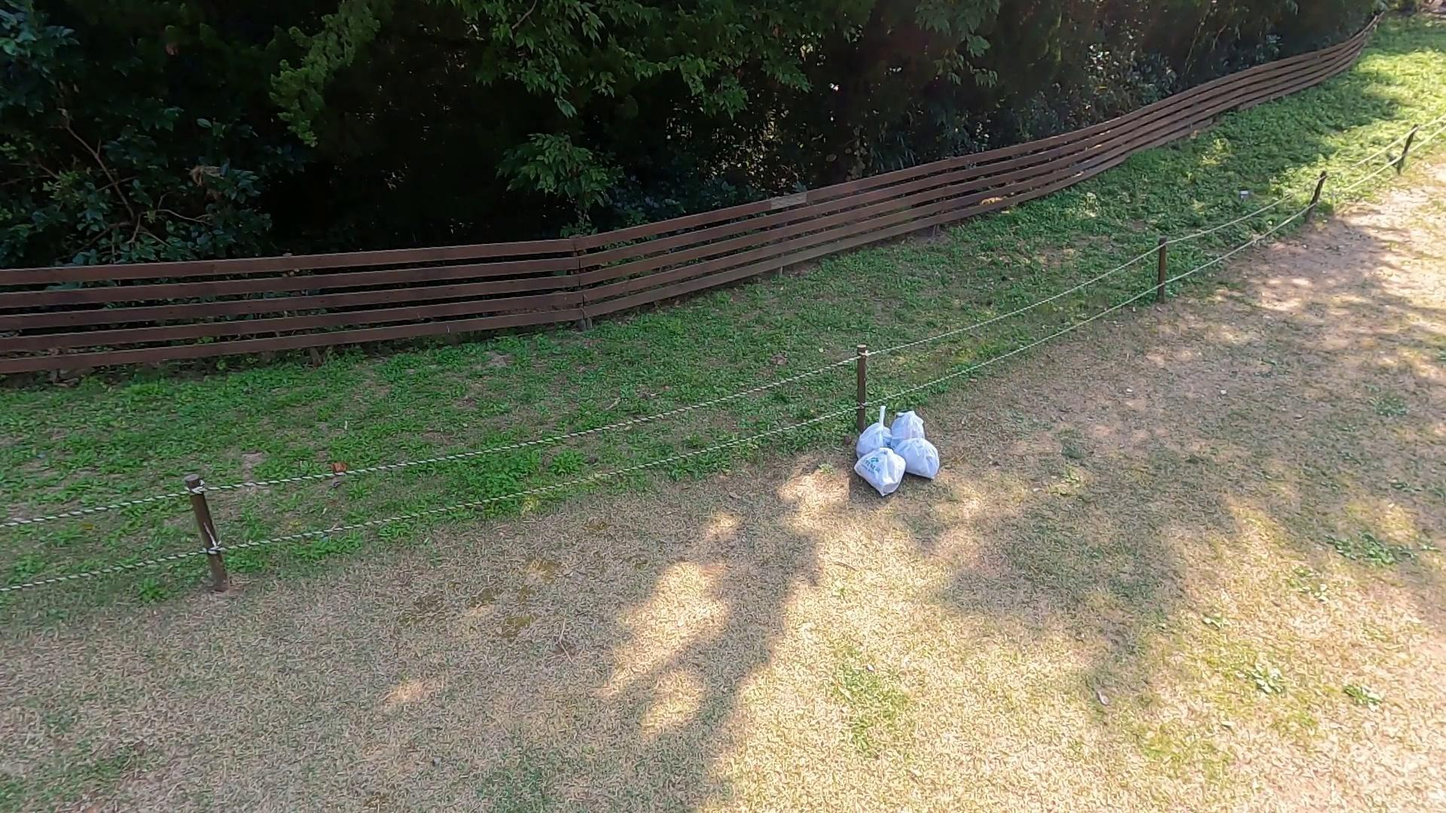trash: (852, 443, 907, 497), (854, 405, 899, 465), (893, 438, 943, 480), (889, 408, 927, 449)
